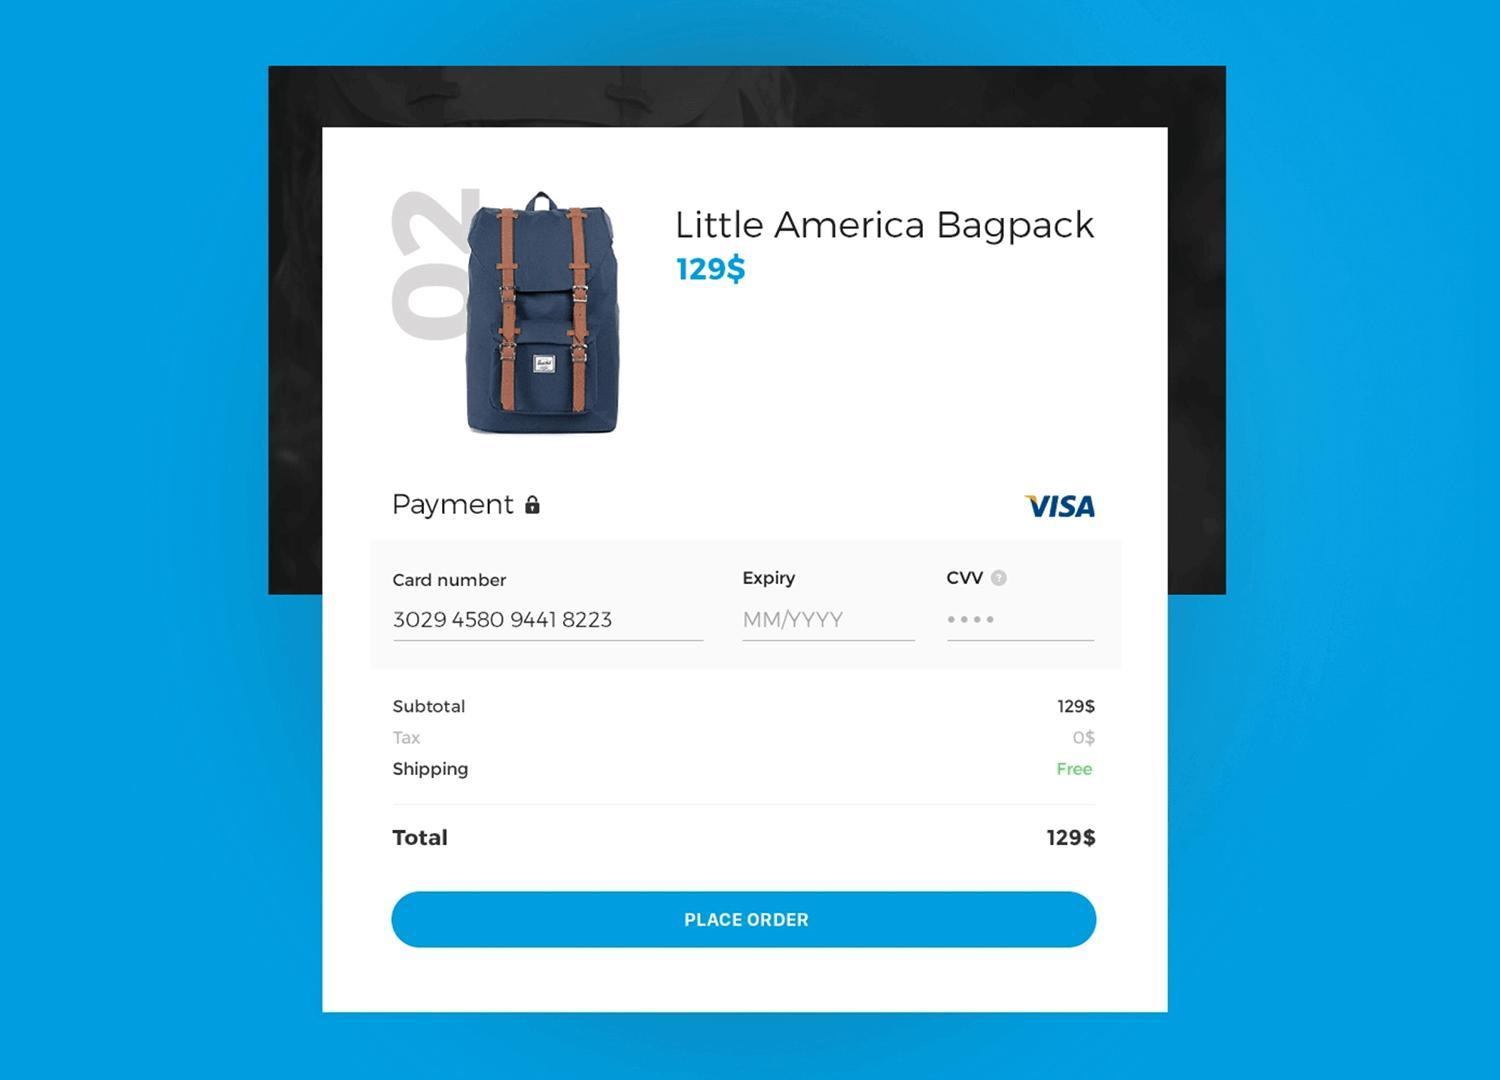button: (396, 888, 1102, 951)
label: (388, 571, 512, 597), (737, 571, 815, 588), (939, 569, 988, 591)
